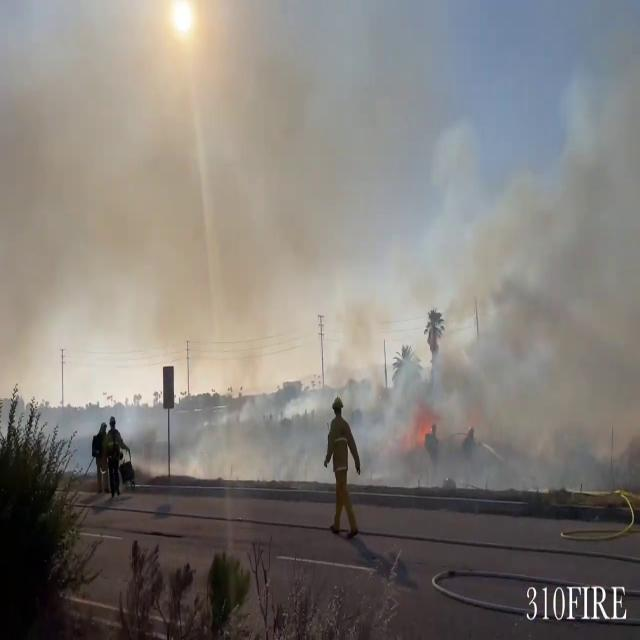Smoke: (0, 0, 418, 365), (358, 100, 640, 498)
